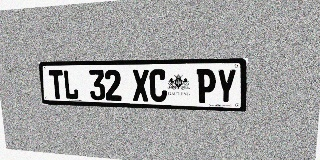2: (104, 69, 121, 101)
3: (89, 70, 105, 100)
C: (149, 69, 167, 102)
L: (63, 70, 79, 100)
P: (197, 69, 216, 103)
T: (48, 70, 64, 99)
X: (132, 69, 149, 102)
Y: (216, 69, 237, 104)
